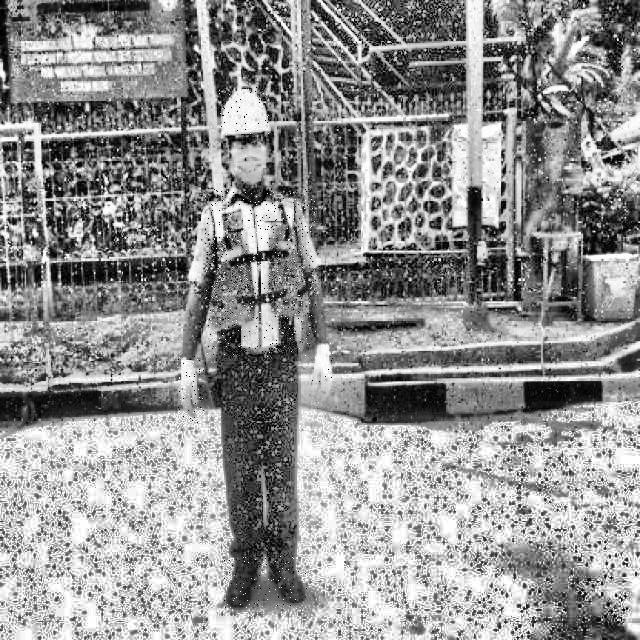safety_helmet: (218, 87, 270, 135)
safety_jacket: (205, 189, 316, 357)
